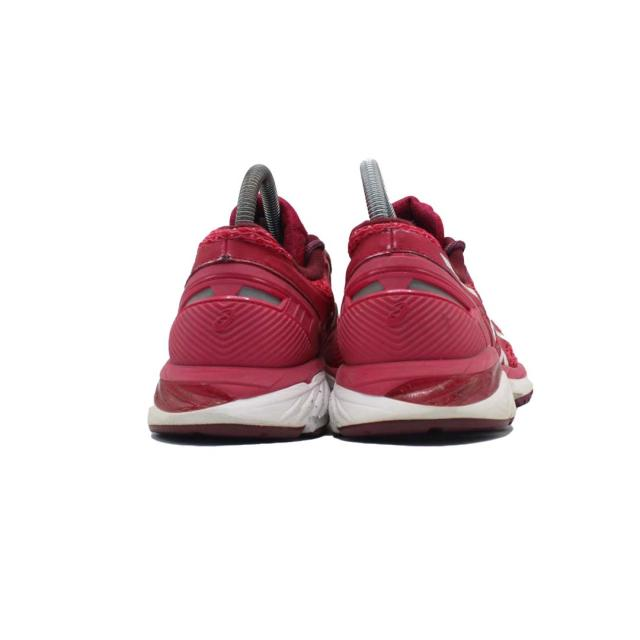heel: (150, 196, 323, 362), (344, 185, 493, 355)
midsole: (144, 362, 536, 440)
